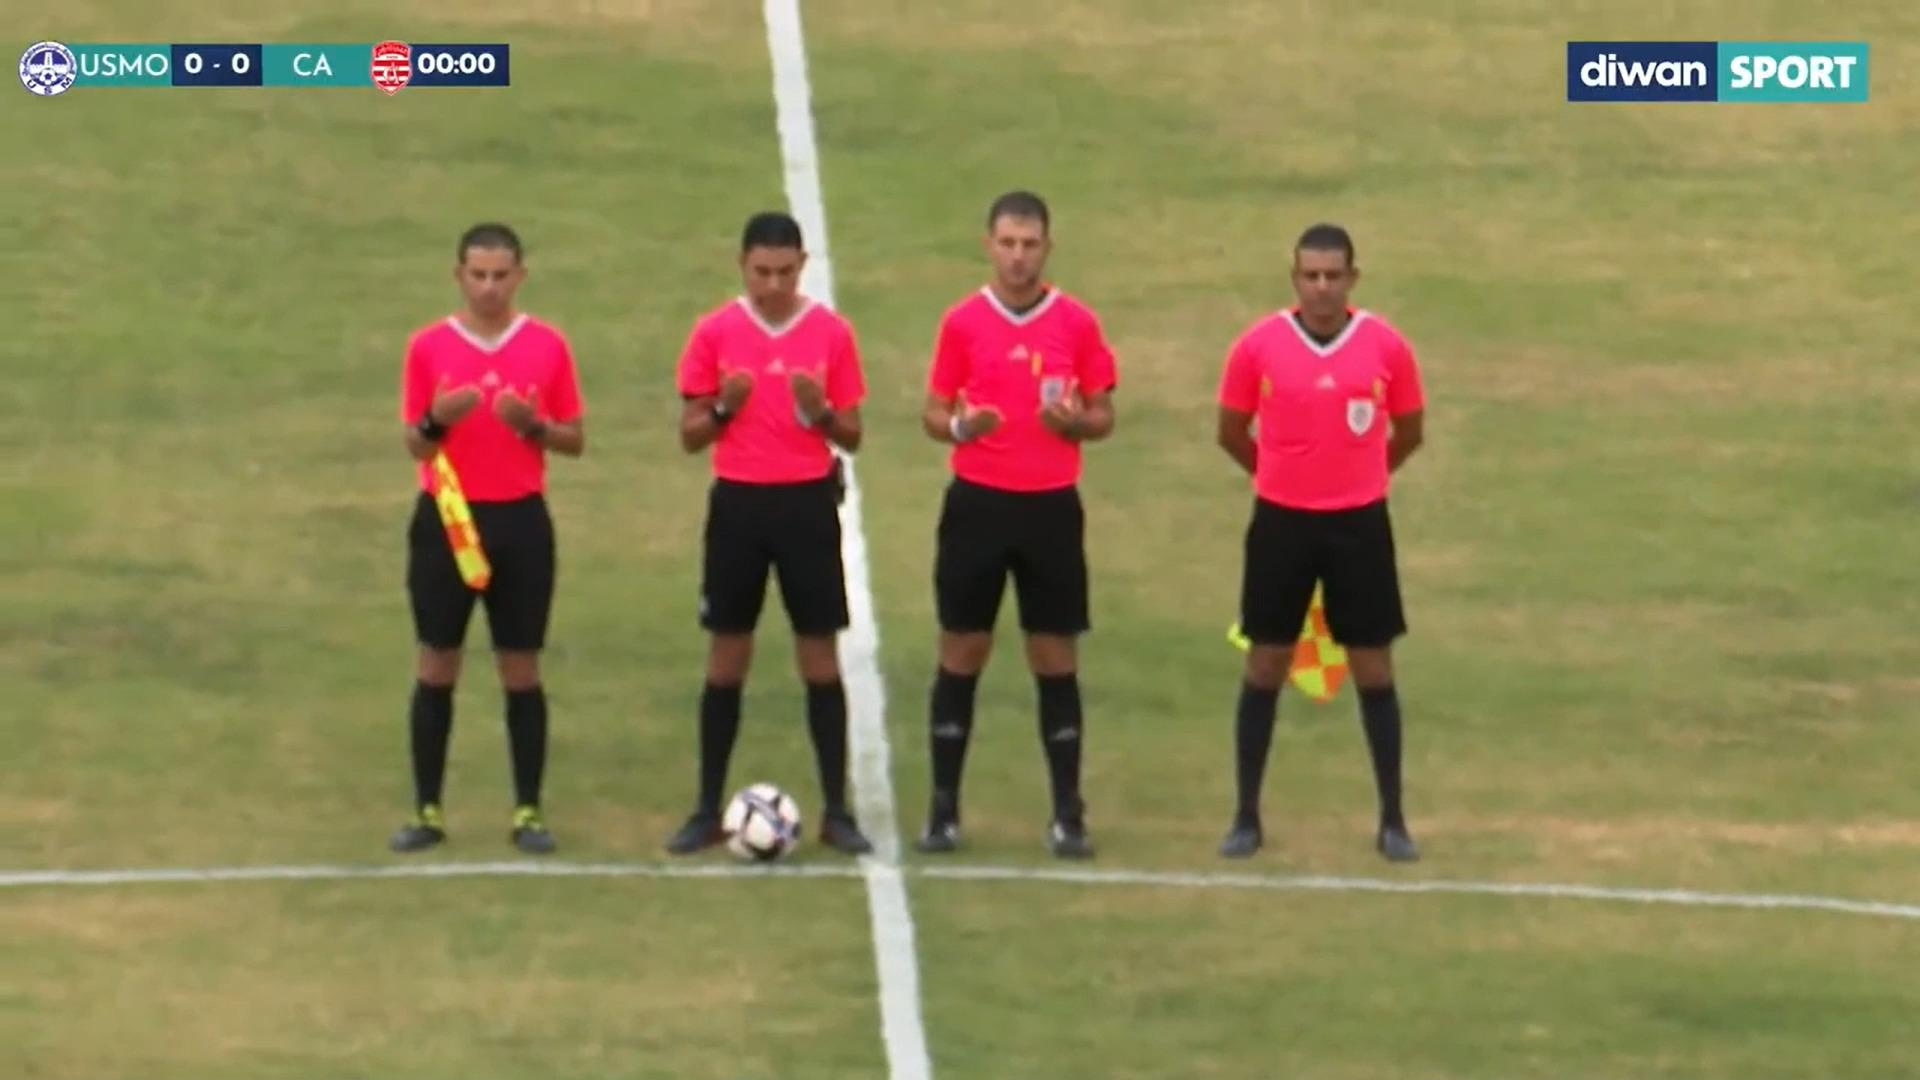ball: (694, 765, 820, 911)
referee: (1185, 214, 1469, 878), (884, 186, 1149, 880), (669, 170, 884, 878), (364, 191, 572, 889)
